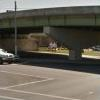Bridge: (3, 4, 100, 54)
